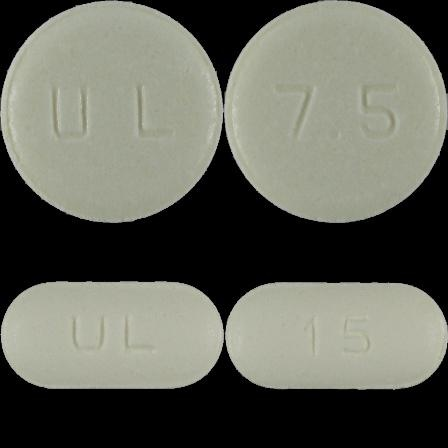0179-0179: (0, 0, 224, 224)
